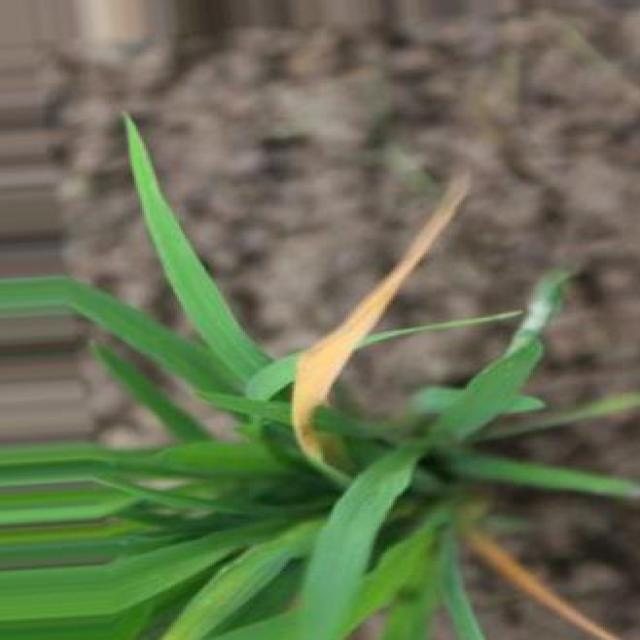Rice Tungro: (292, 170, 470, 468), (465, 529, 620, 640)
